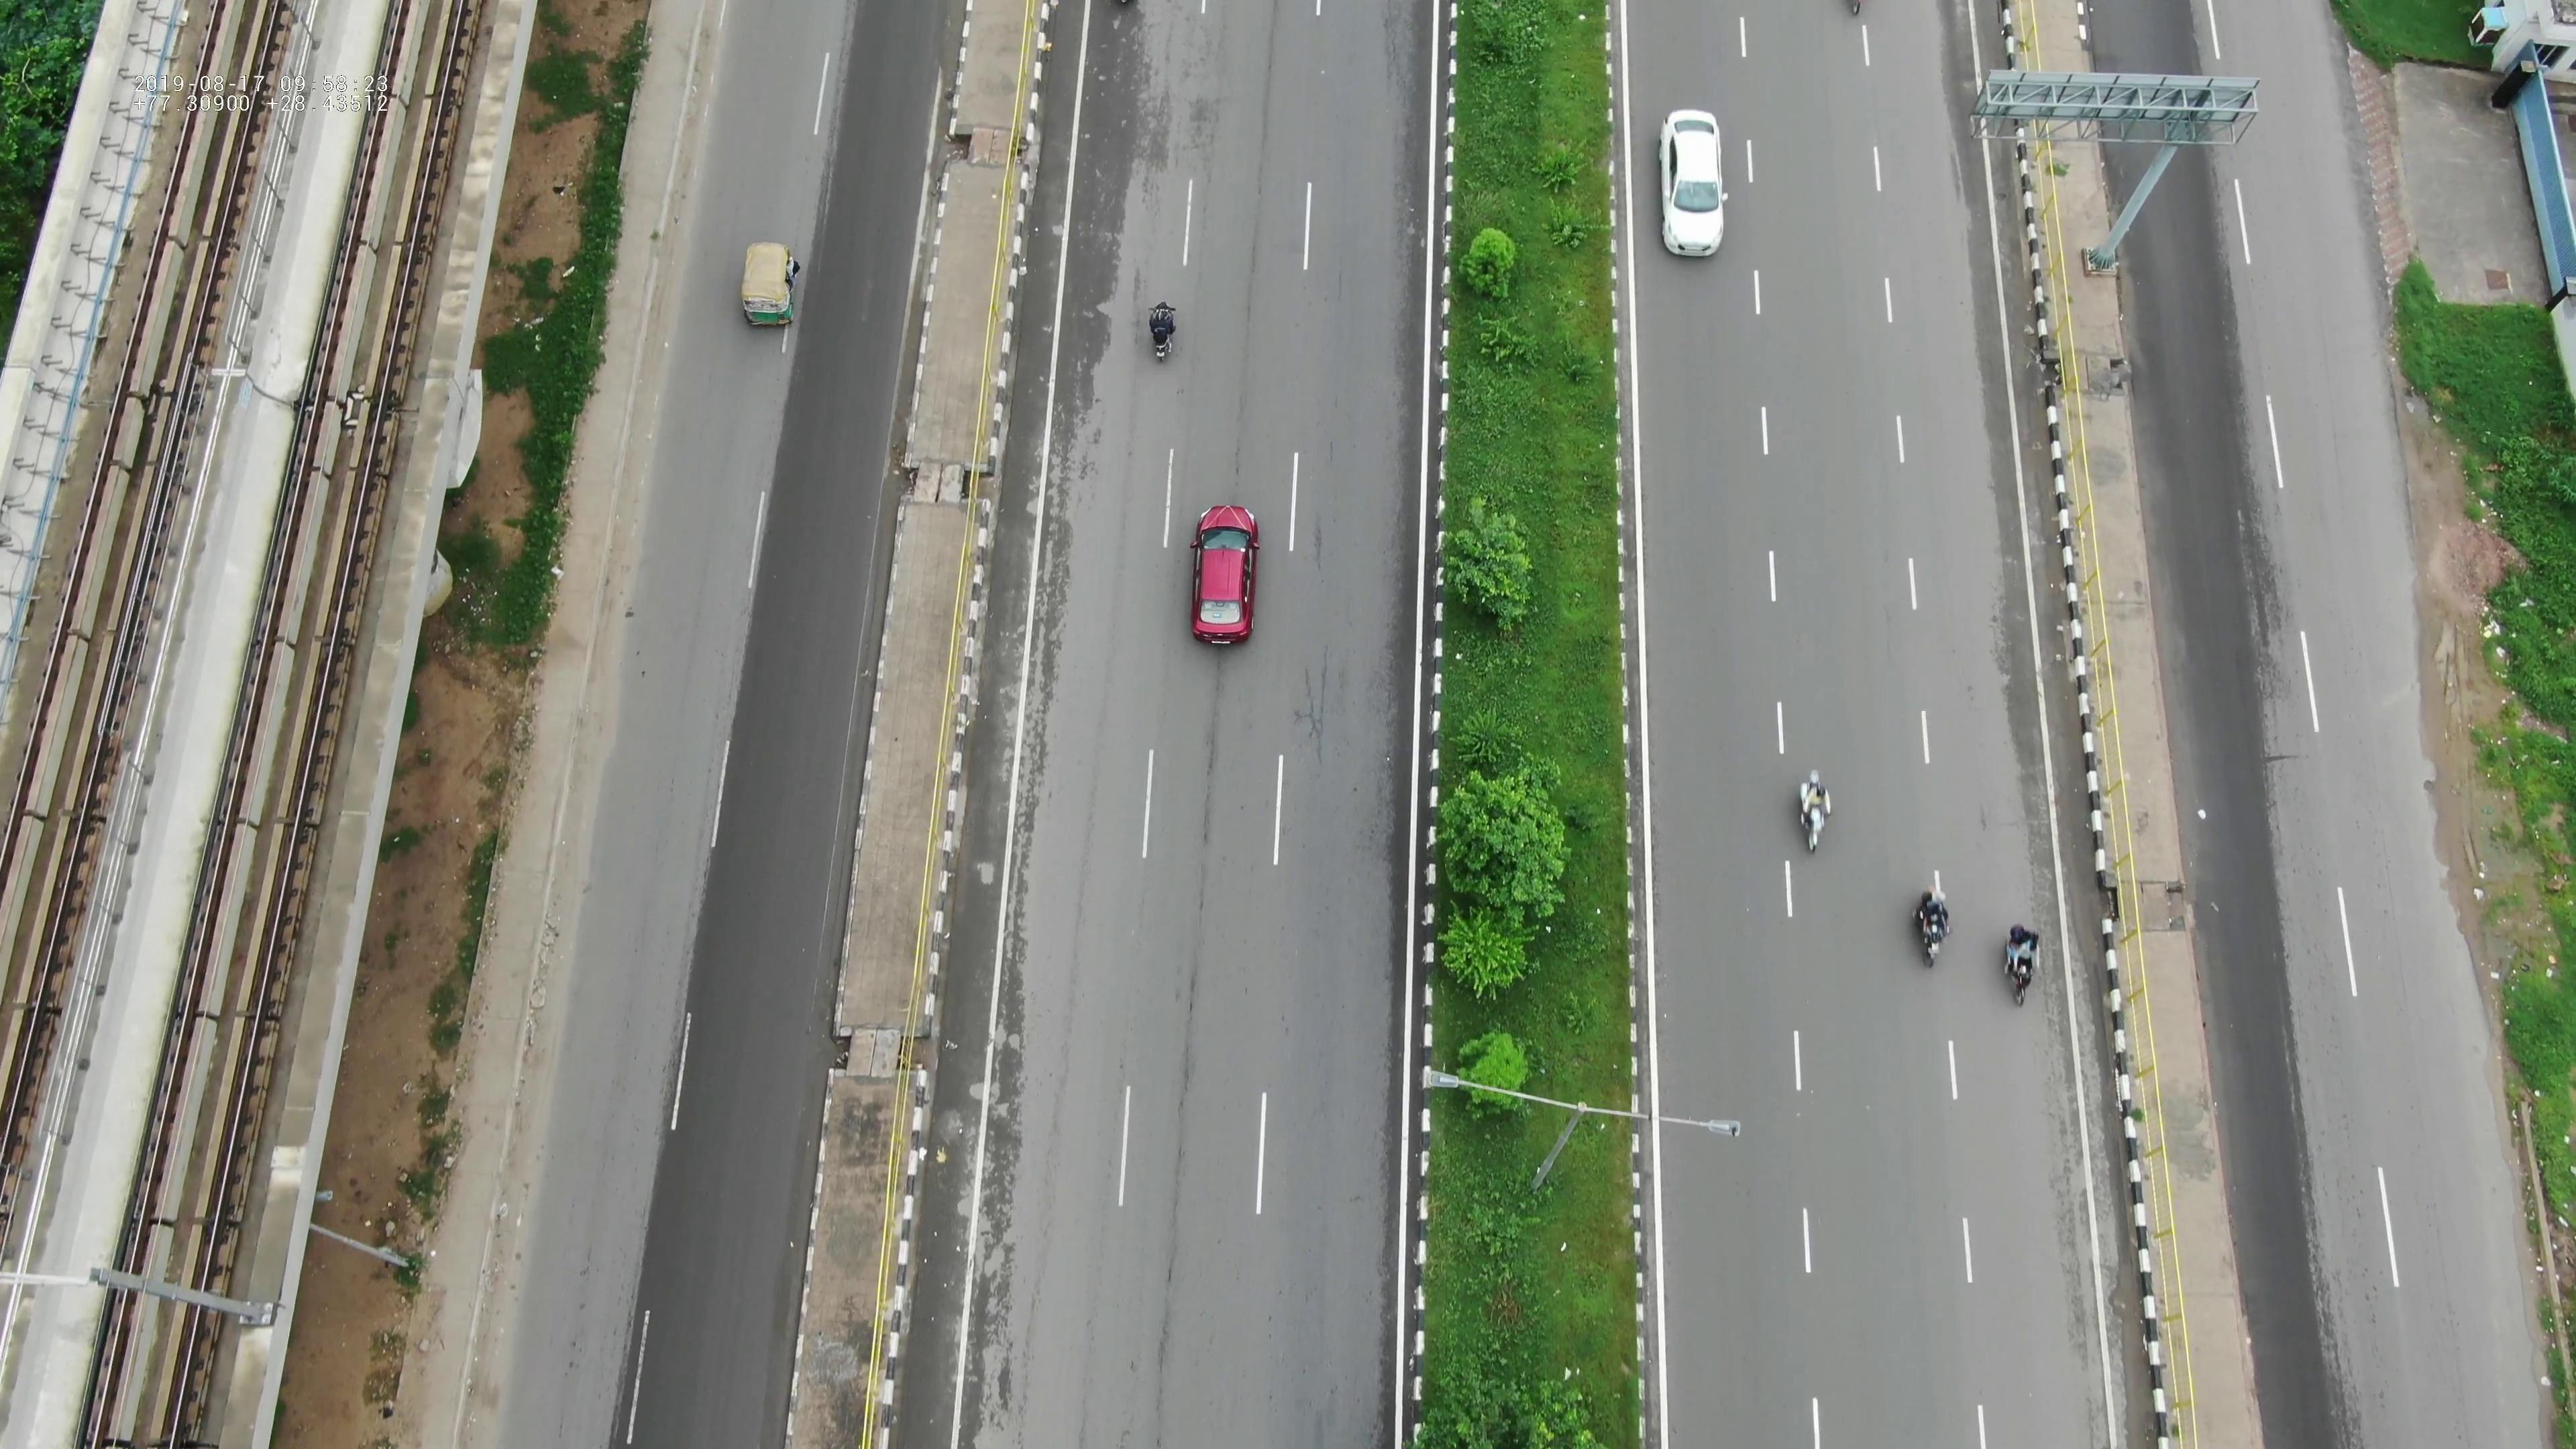Hair_cracks: (1277, 609, 1366, 814)
